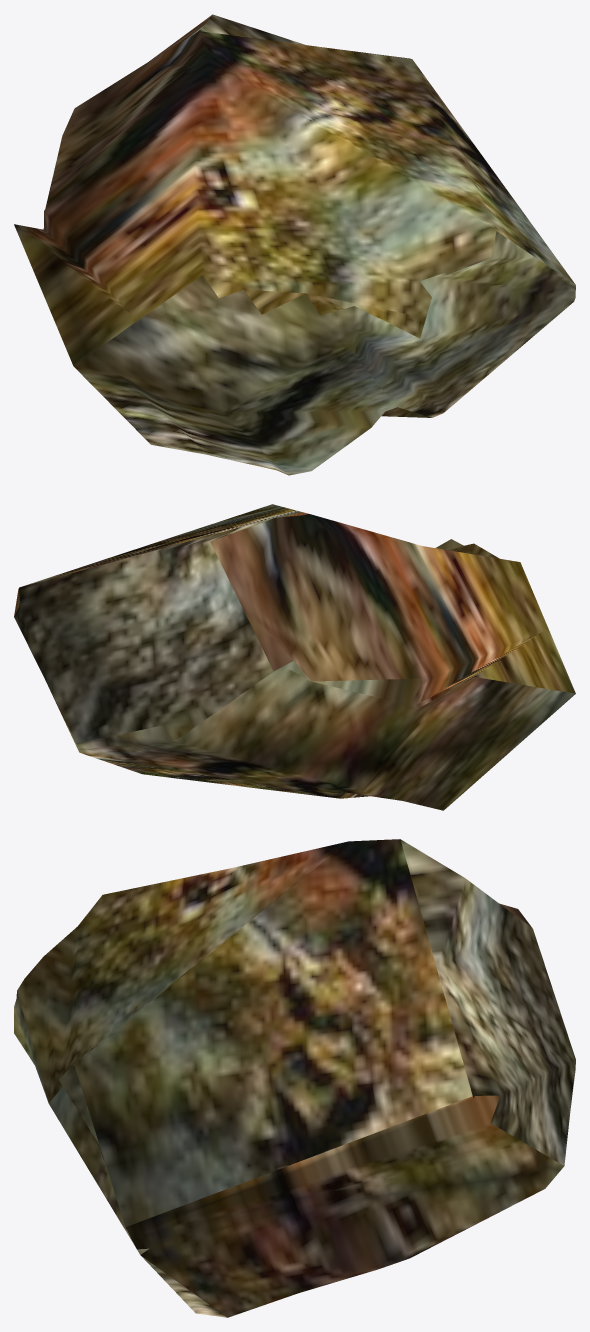
File: kam4.glb
3 views of the same model, one above another, from view 1: azimuth 30°, elevation 25°; view 2: azimuth 150°, elevation 25°; view 3: azimuth 270°, elevation 25° (orthographic). The views are drawn at different scales.
Visible parts, largest first — view 1: камень.003; view 2: камень.003; view 3: камень.003.
Boxes of the visible parts, x1,y1,x2,y2 form: камень.003: [14, 14, 575, 475]; камень.003: [14, 504, 575, 810]; камень.003: [14, 839, 575, 1317].
Bounding box in the file's own units: 0.7074 × 0.5023 × 0.6352.
Materials: 1 (1 with a texture image).
